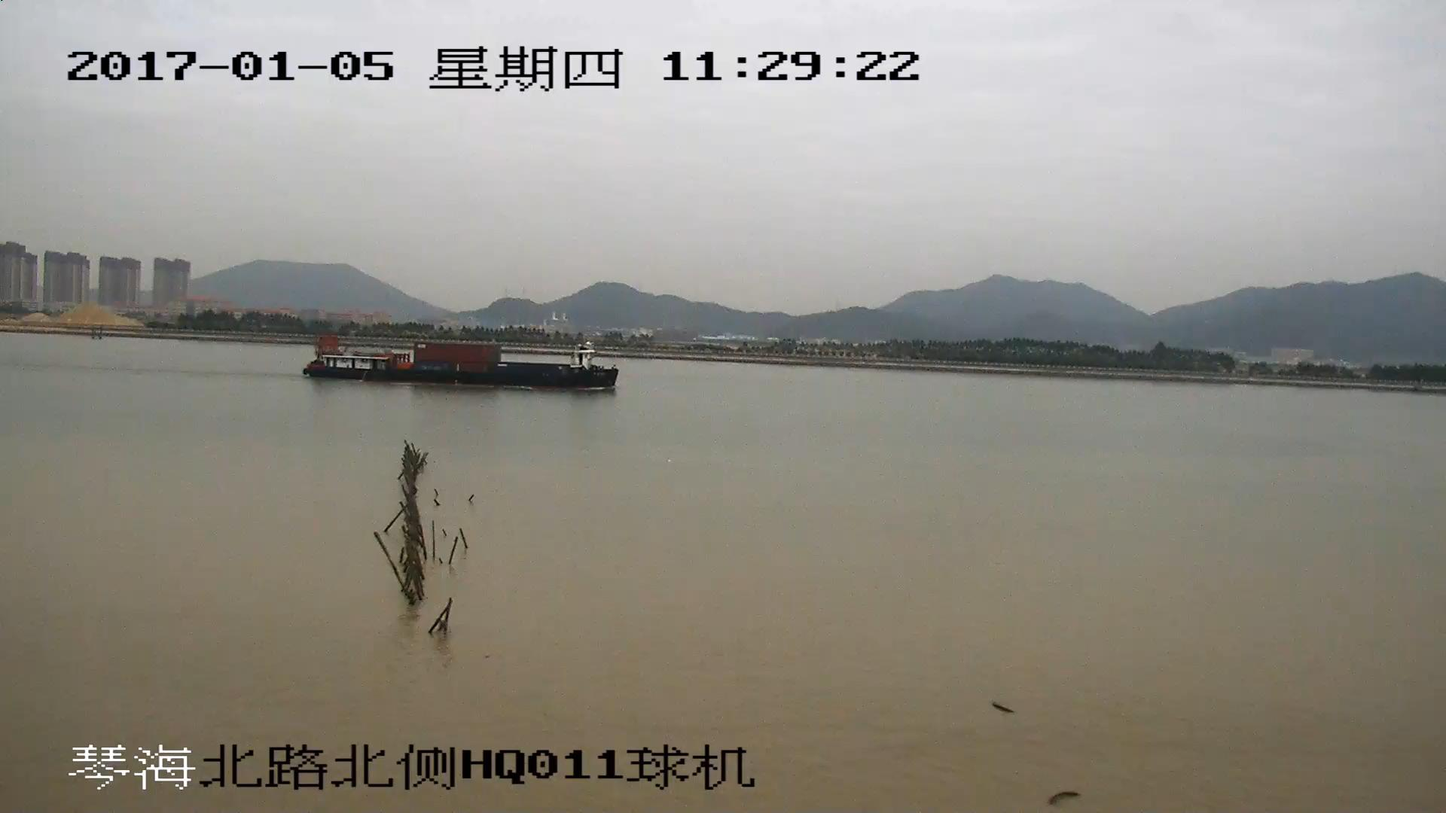container ship: (301, 336, 620, 391)
